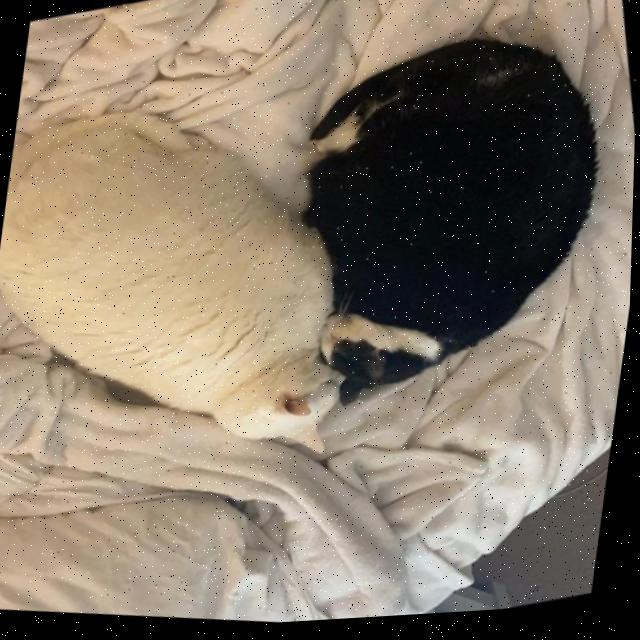Cats: (0, 2, 412, 559), (239, 0, 640, 485)
